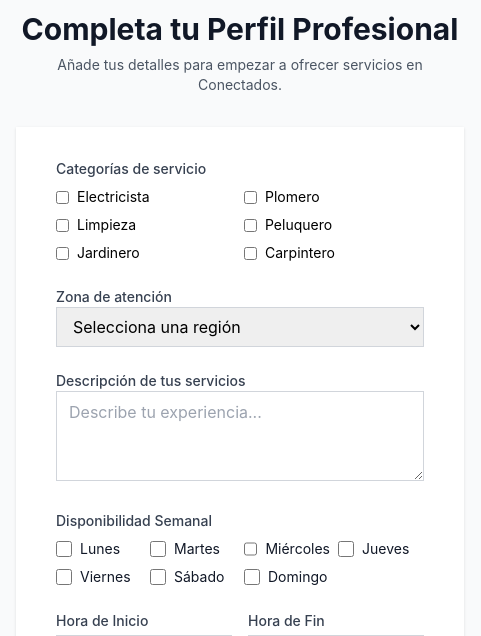
BecomeProPage › debe mostrar un error si no se selecciona categoría o disponibilidad
# No seleccionar categoría ni disponibilidad
In the text box with placeholder "Describe tu experiencia...": point(240, 436) [56,391,424,481], type "test"
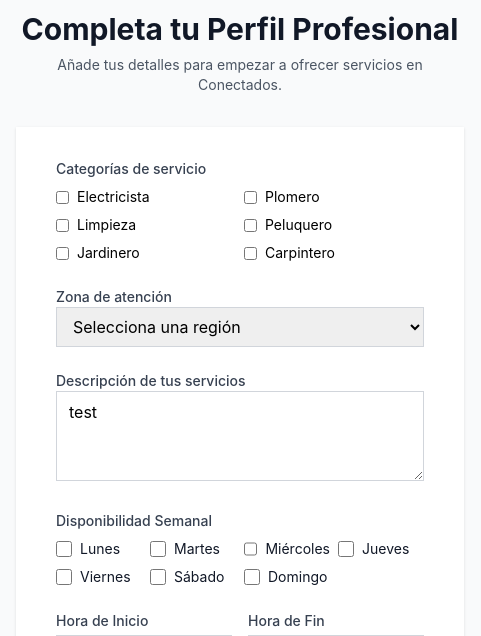
Select "Región Metropolitana" in the dropdown labelled "Zona de atención": point(240, 327) [56,307,424,347]
(page scrolled)
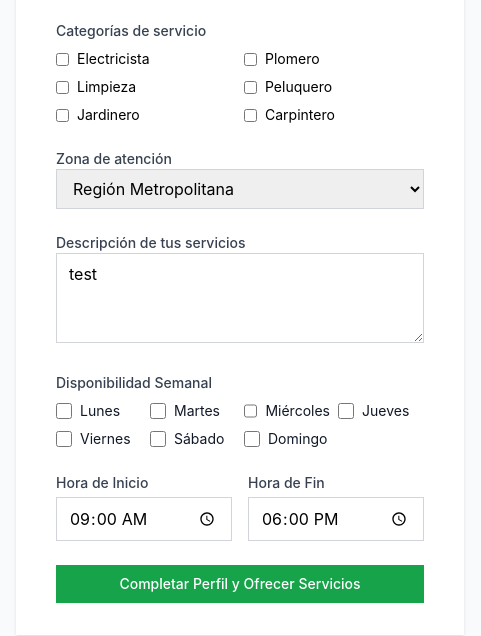
Click the button "Completar Perfil y Ofrecer Servicios": point(240, 584) [56,565,424,603]
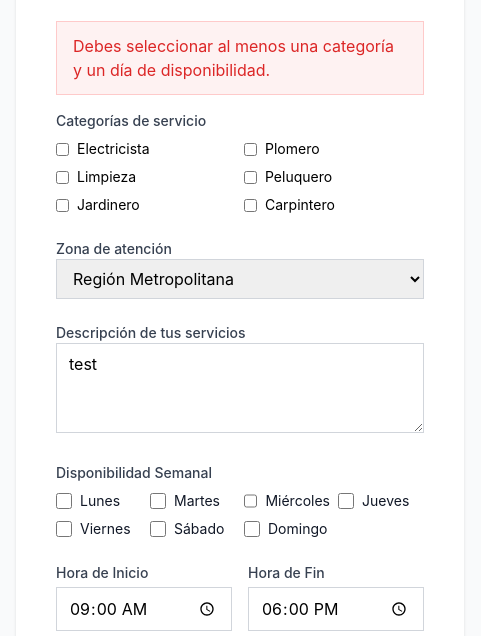
Result: the text "Debes seleccionar al menos una categoría y un día de disponibilidad." is shown at [56,21,424,95]
